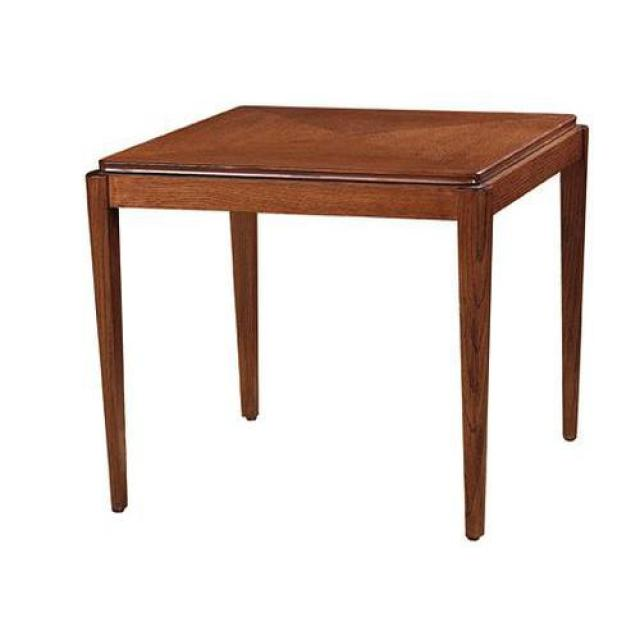table: (84, 106, 590, 545)
